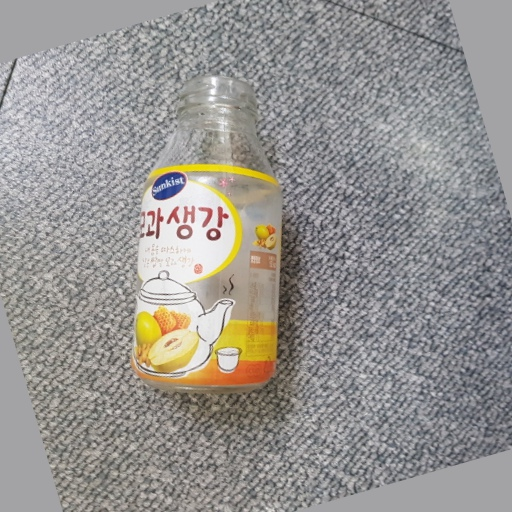Glass_4: (131, 74, 291, 396)
